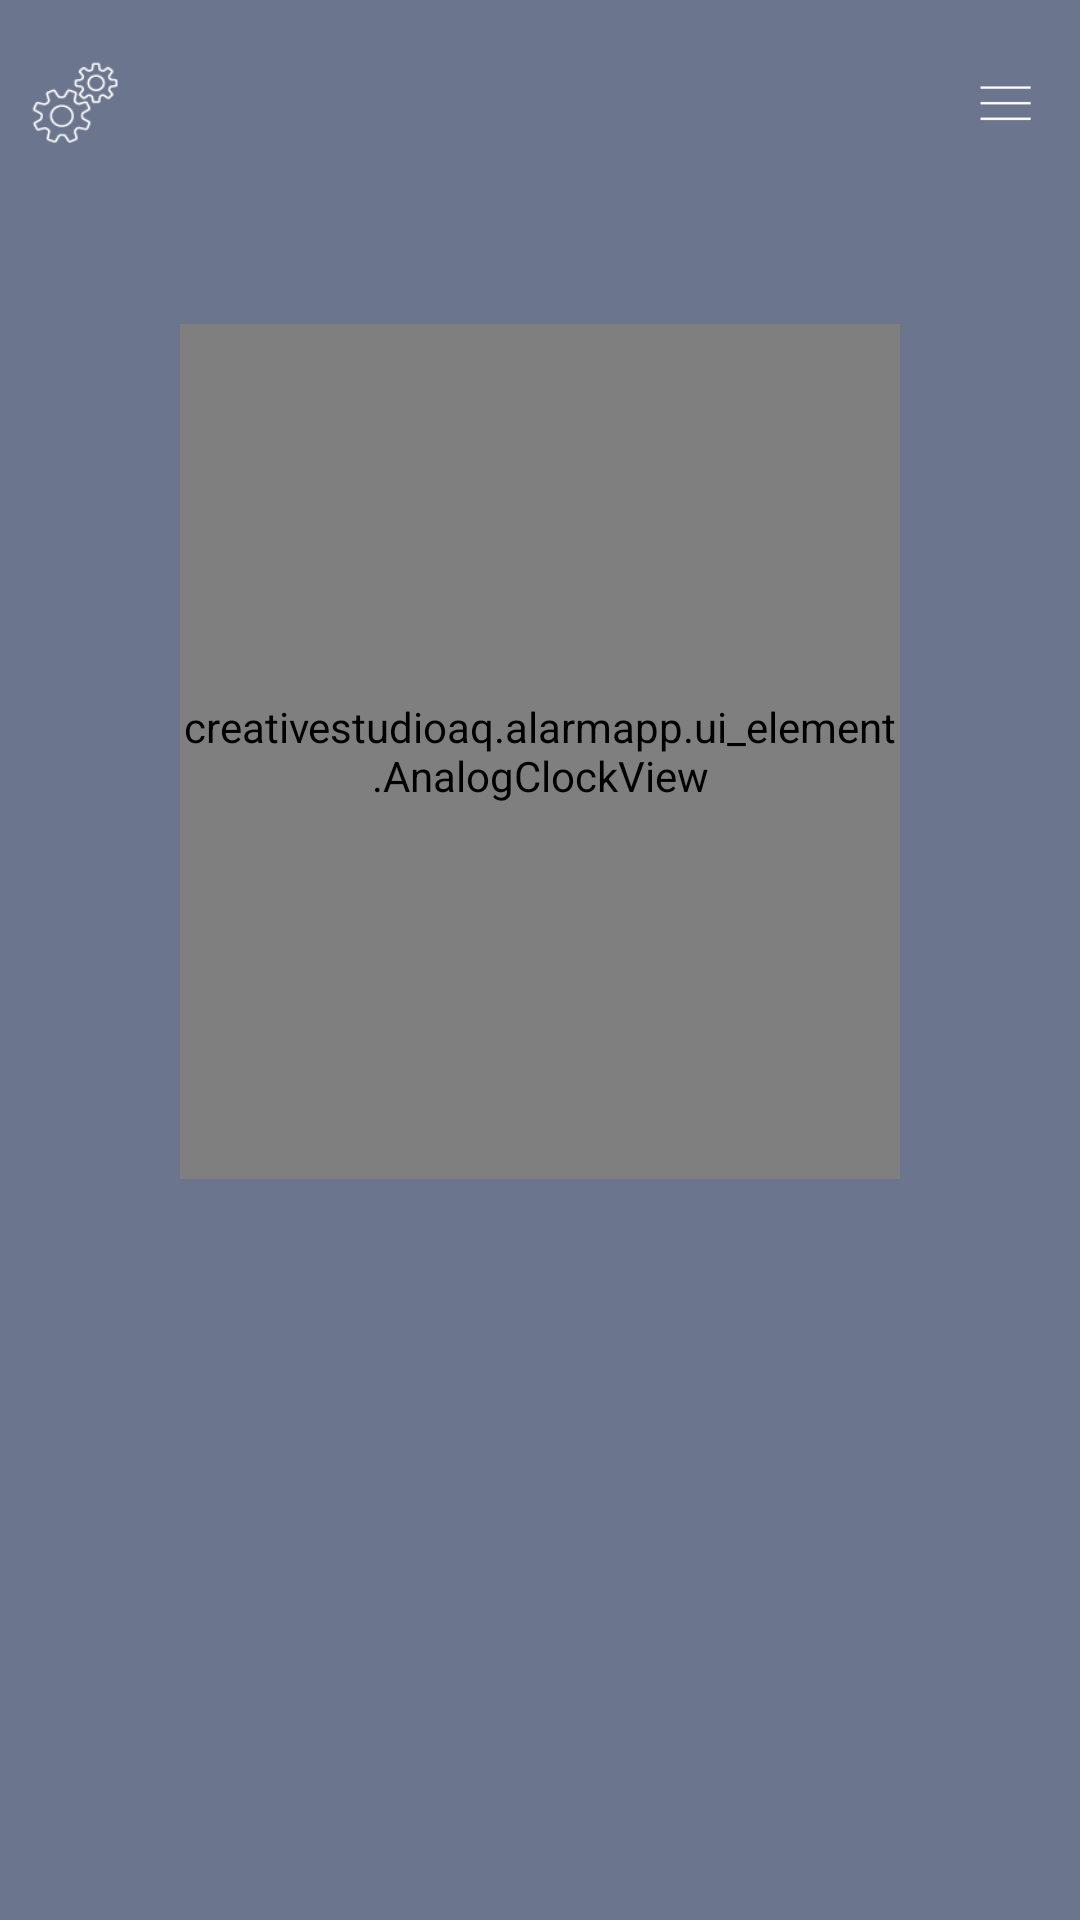

Where icons sit on this 1080px×1920px app screen, as (x1, y1, x2, y2):
menuicon: (980, 86, 1031, 120)
seticon: (32, 62, 118, 143)
